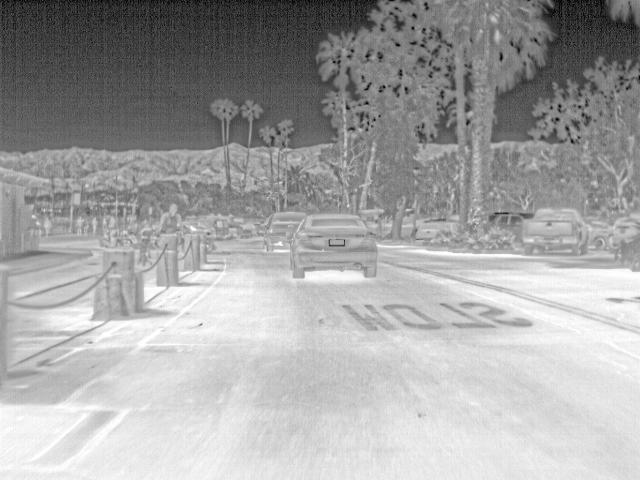car: (291, 214, 379, 278), (523, 207, 590, 255), (486, 210, 534, 250), (266, 209, 306, 249), (589, 221, 618, 251), (178, 222, 214, 238), (207, 218, 231, 240), (234, 219, 258, 238)
person: (155, 203, 184, 237), (41, 214, 53, 235), (73, 213, 85, 234), (88, 214, 100, 234)
